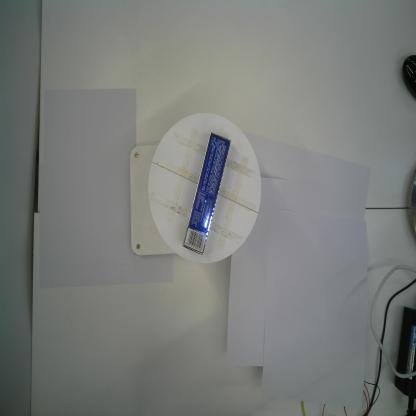Personal Hygiene: (182, 131, 232, 256)
